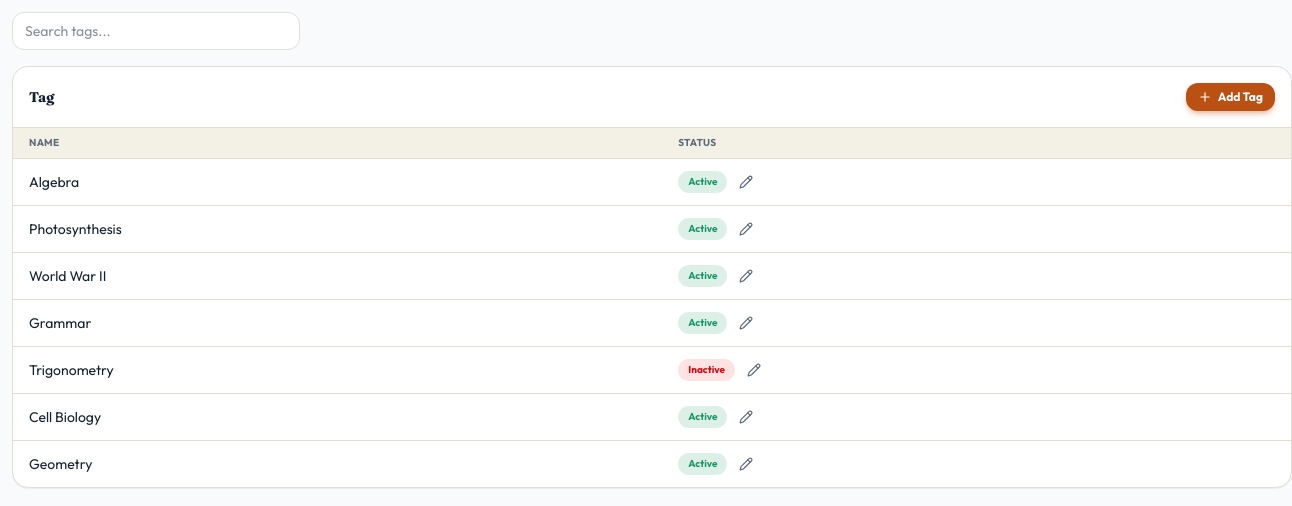
Scenario: TagManagement › deactivating a tag keeps it visible in the list, marked Inactive
The width and height of the screenshot is (1292, 506).
Expected: the text "Algebra" is shown, [13, 159, 662, 206]
Step 1. Click the button "Active" in the row of "Algebra" → point(703, 182), box [678, 171, 728, 193]
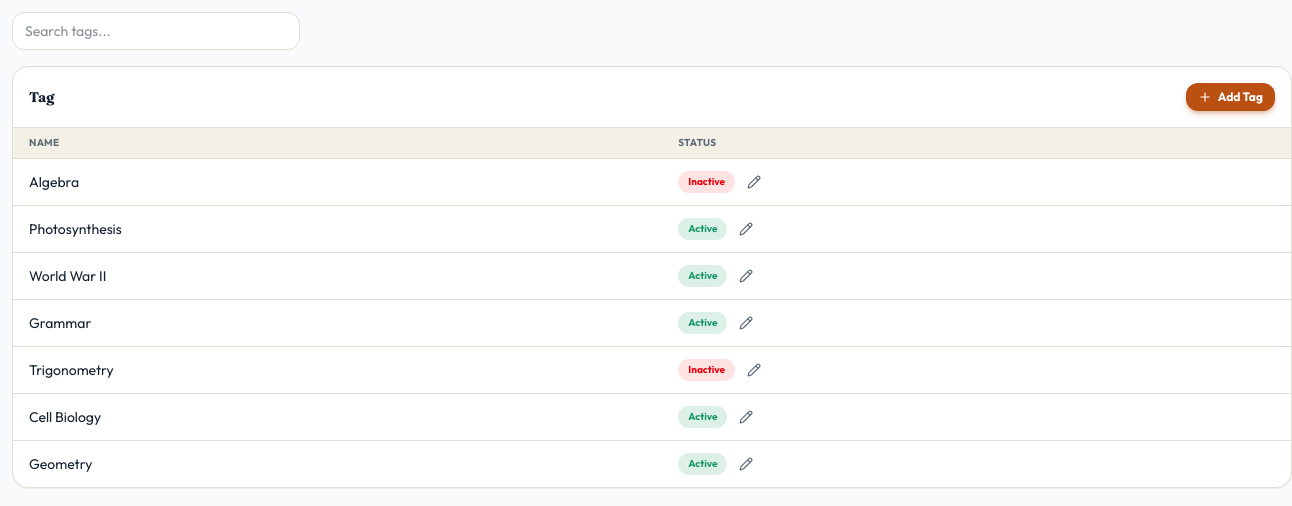
Expected: the text "Algebra" is shown, [13, 159, 662, 206]
Now the button "Inactive" in the row of "Algebra" is shown, box [678, 171, 735, 193]
